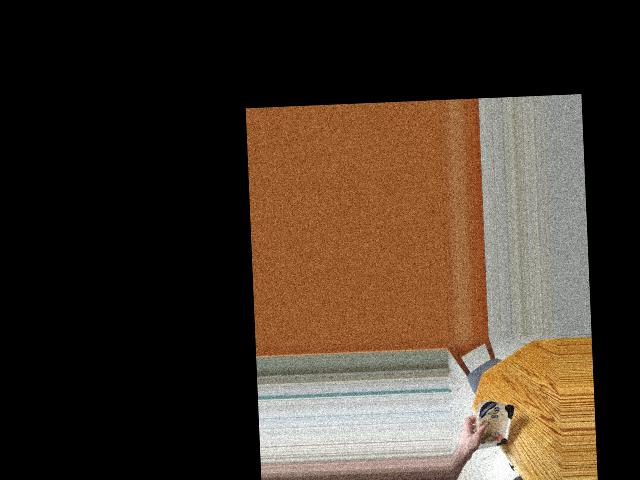cheese: (474, 397, 512, 455)
